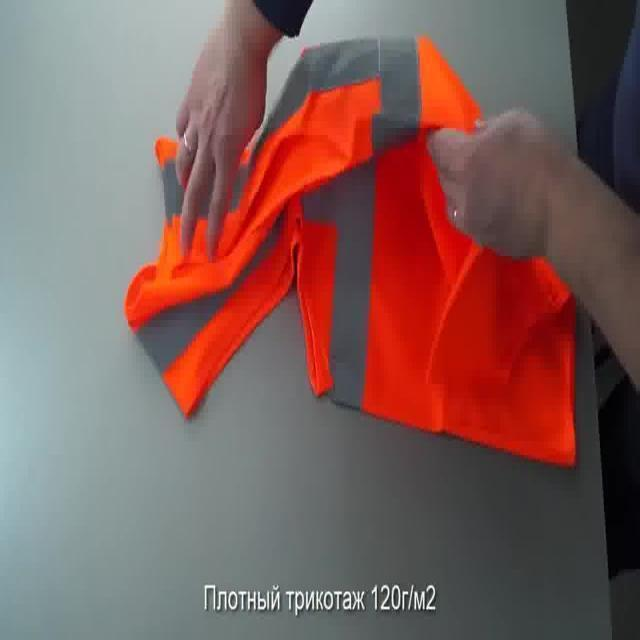vest: (120, 32, 584, 475)
